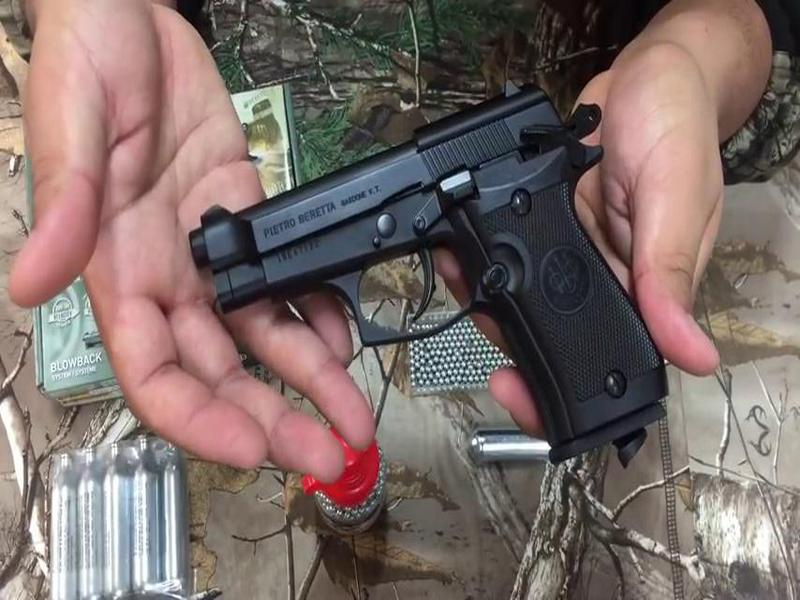Pistola: (169, 89, 738, 495)
